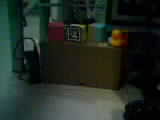duck: (103, 25, 128, 53)
